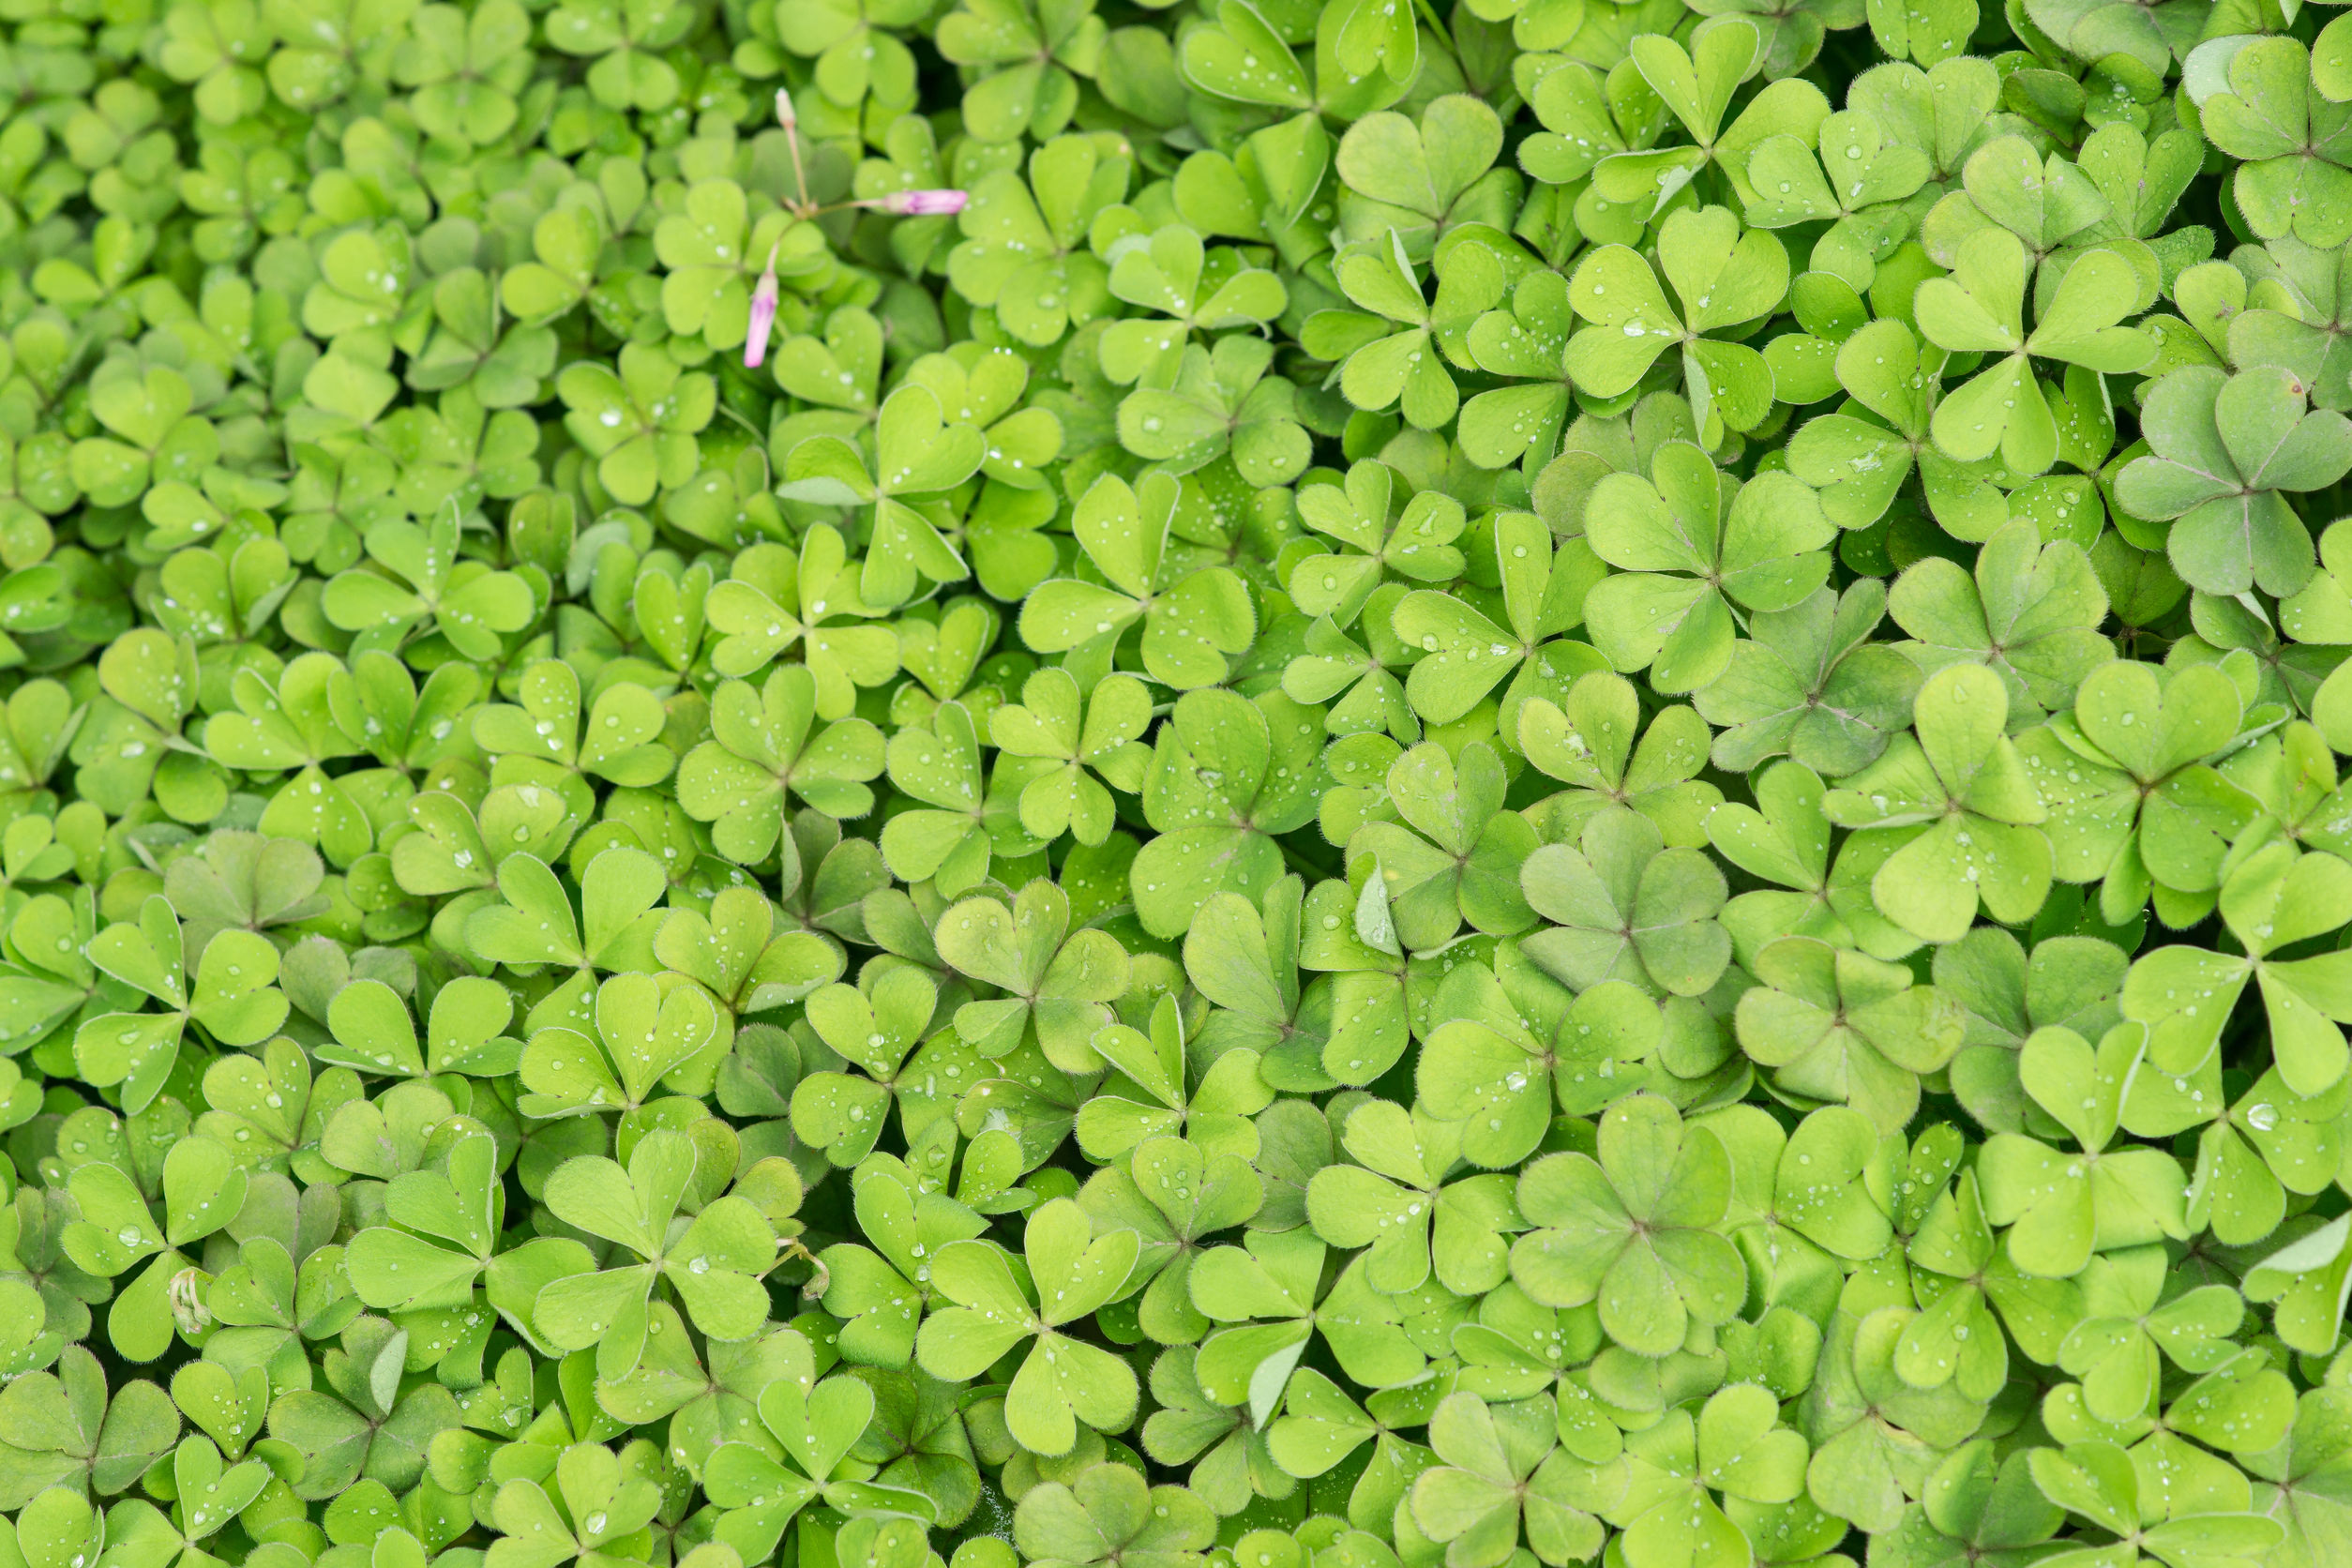oxalis: (14, 2, 2352, 1475)
